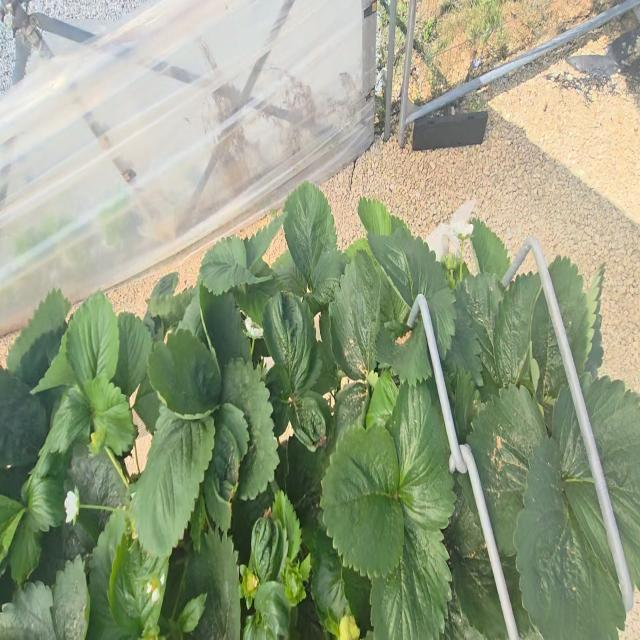Flowers: (64, 488, 79, 526), (244, 316, 263, 340), (146, 579, 161, 602), (456, 222, 473, 239)
Leaves: (514, 437, 625, 639), (467, 385, 546, 556), (130, 404, 215, 559), (581, 373, 640, 590), (321, 426, 404, 577), (553, 386, 614, 578), (368, 228, 456, 354), (380, 384, 454, 530), (371, 529, 451, 639), (223, 359, 279, 500), (108, 519, 167, 637), (149, 327, 222, 415), (6, 289, 70, 389), (328, 260, 381, 379), (262, 292, 321, 395), (185, 529, 240, 639), (283, 181, 337, 293), (493, 273, 541, 386), (306, 521, 352, 638), (450, 547, 507, 639), (549, 256, 592, 375), (0, 369, 49, 468), (66, 292, 119, 382), (200, 286, 251, 379), (276, 436, 328, 526), (459, 273, 505, 370), (84, 377, 135, 456), (69, 445, 127, 508), (533, 290, 567, 397), (377, 318, 432, 384), (443, 292, 482, 385), (113, 312, 152, 398), (198, 238, 256, 295), (0, 581, 56, 639), (52, 555, 89, 639), (281, 391, 329, 451), (243, 581, 291, 639), (21, 475, 64, 533), (470, 217, 510, 279), (501, 555, 530, 632), (9, 516, 41, 585), (271, 491, 301, 560), (333, 382, 368, 440), (453, 370, 479, 444), (168, 594, 207, 637), (74, 511, 111, 549), (178, 289, 204, 340), (357, 197, 391, 235)
Strawberries: (241, 568, 259, 609), (338, 610, 359, 639), (90, 429, 106, 453)
